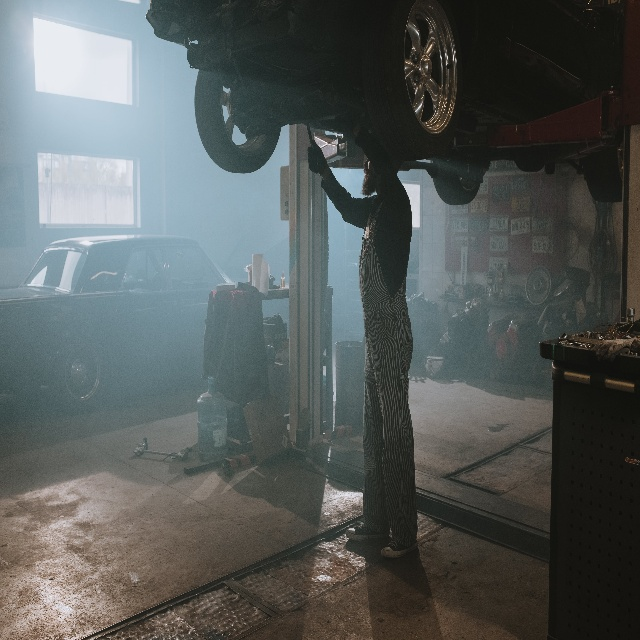Guantes: (307, 139, 327, 177)
